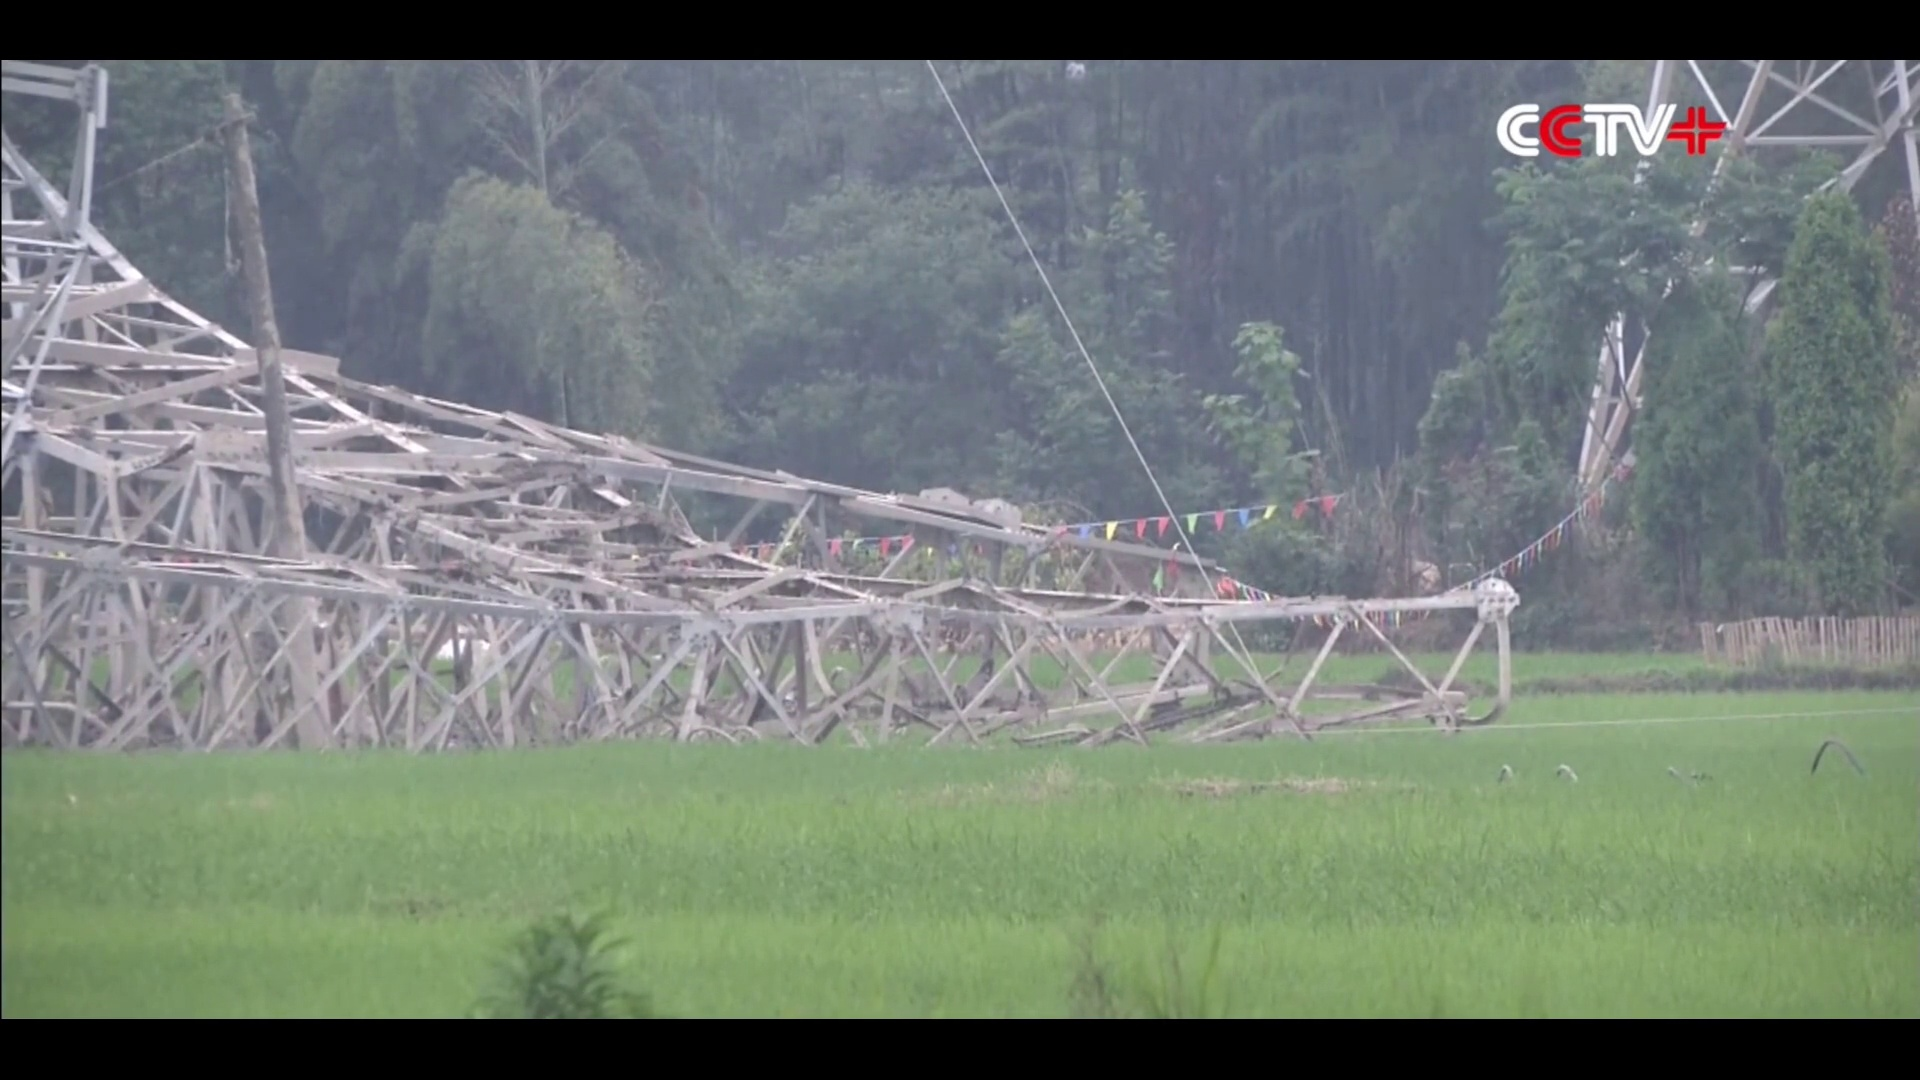tower_down: (3, 133, 1515, 815)
